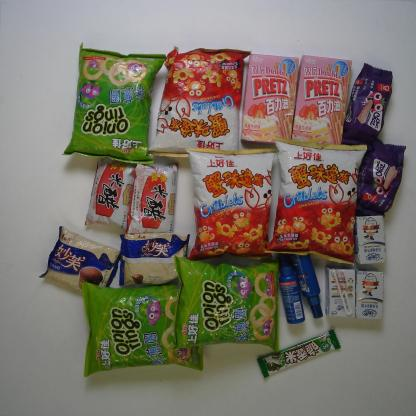Chocolate: (258, 330, 343, 378)
Dessert: (289, 51, 356, 152), (237, 52, 301, 148), (38, 225, 122, 297), (345, 138, 407, 228), (336, 61, 397, 151), (116, 228, 194, 290)
Milk: (352, 266, 385, 324), (352, 214, 388, 266), (322, 264, 356, 319)
Personal Hygiene: (291, 245, 324, 320), (278, 255, 306, 324)
Puffed Food: (263, 135, 370, 266), (62, 41, 169, 166), (146, 45, 251, 160), (80, 280, 205, 376), (182, 144, 278, 264), (169, 255, 283, 352)
Seasoner: (84, 152, 139, 233), (128, 160, 180, 239)
